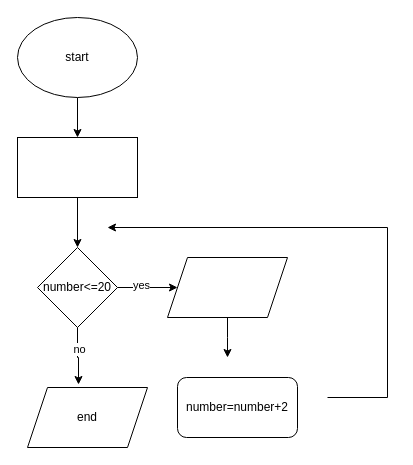
The diagram is 413 pixels wide and 465 high, and some of its shapes have lost their labels. The shapes that lost their labels are listed below. From the top down, each one's centre as x and y in pixels, then its label:
point 77,167: number=10
point 227,287: print number
